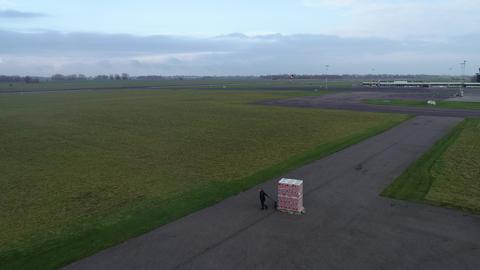RockwoolPallet: (278, 178, 305, 212)
